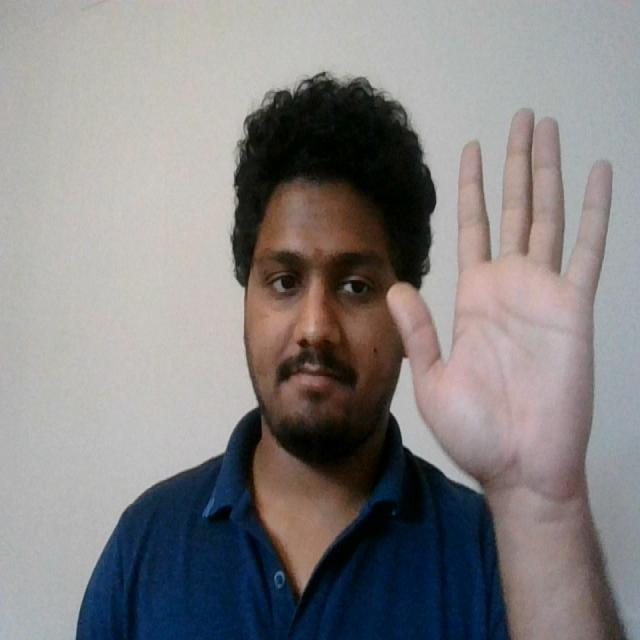Hello: (379, 99, 622, 502)
